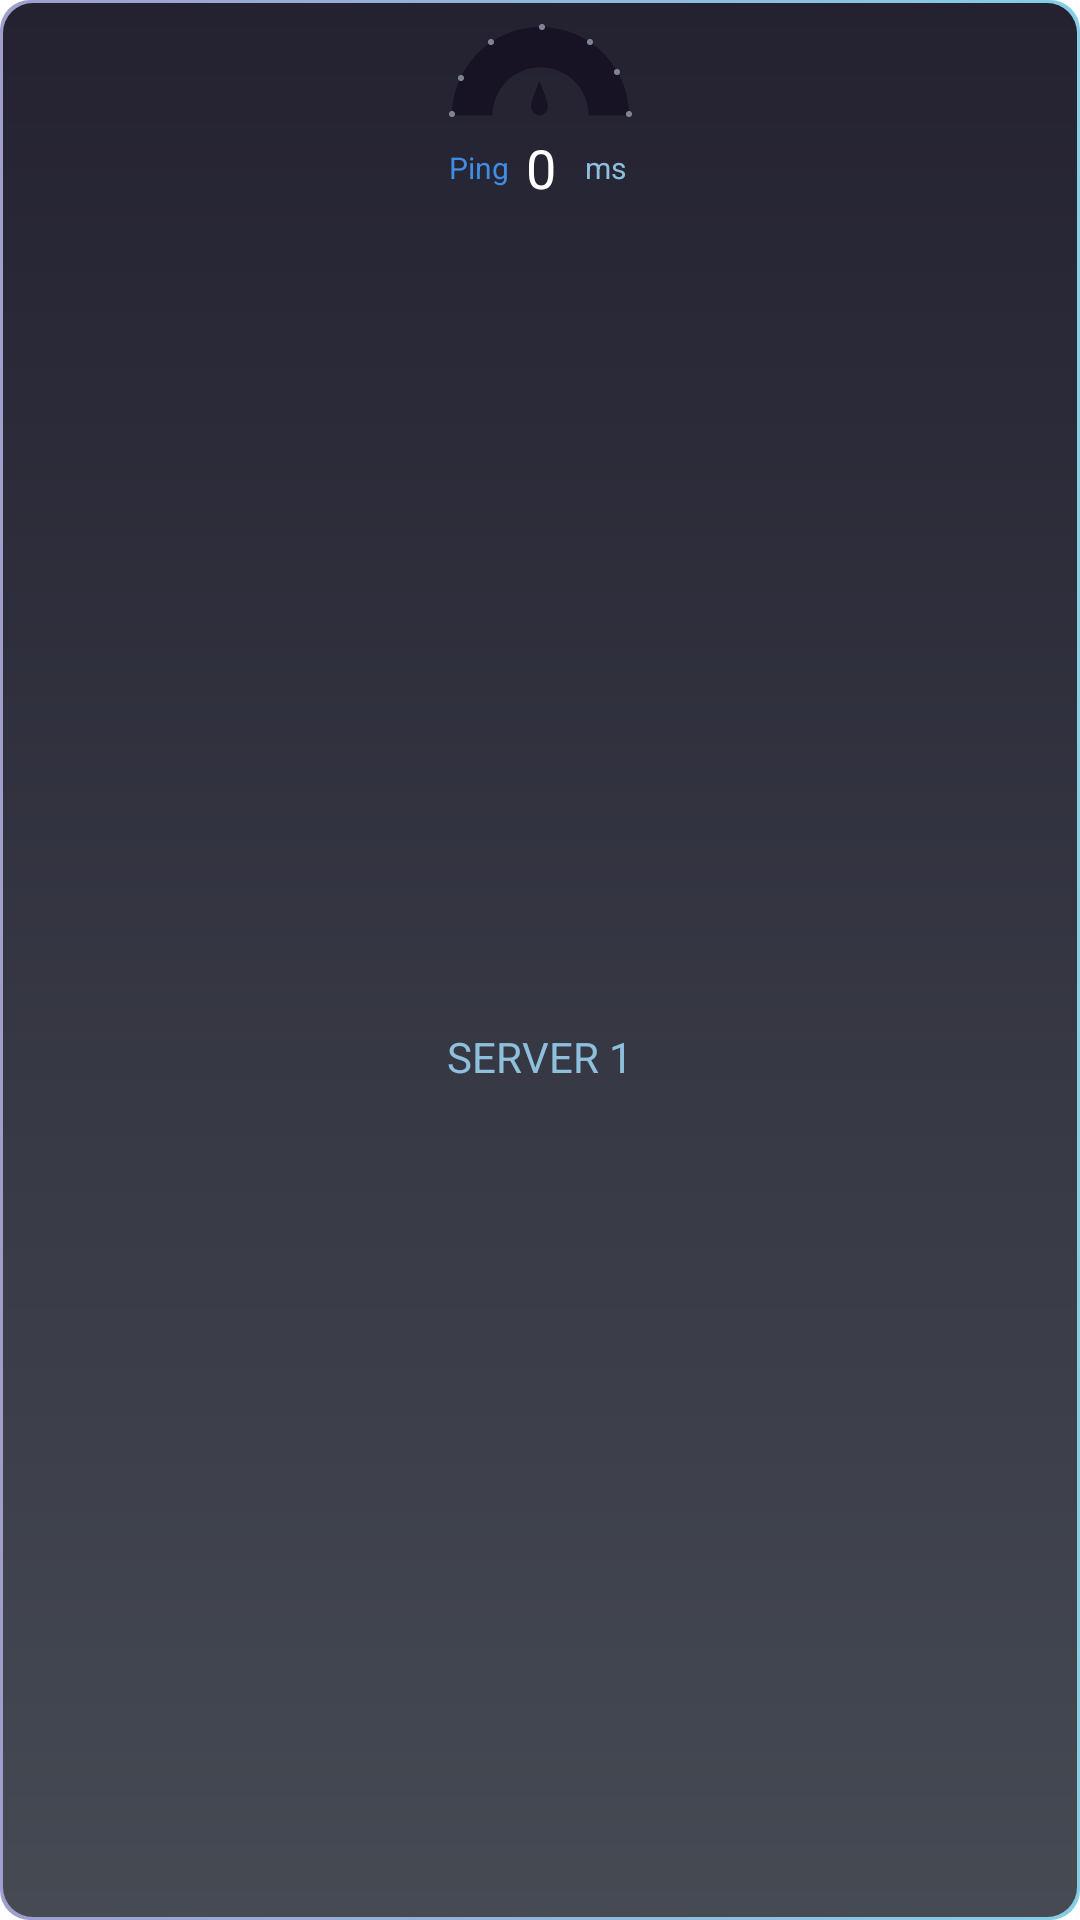

Named icons in this screenshot (1080 x 1920) and their bounding boxes, (x1, y1, x2, y2):
indicator panel: (449, 24, 632, 190)
